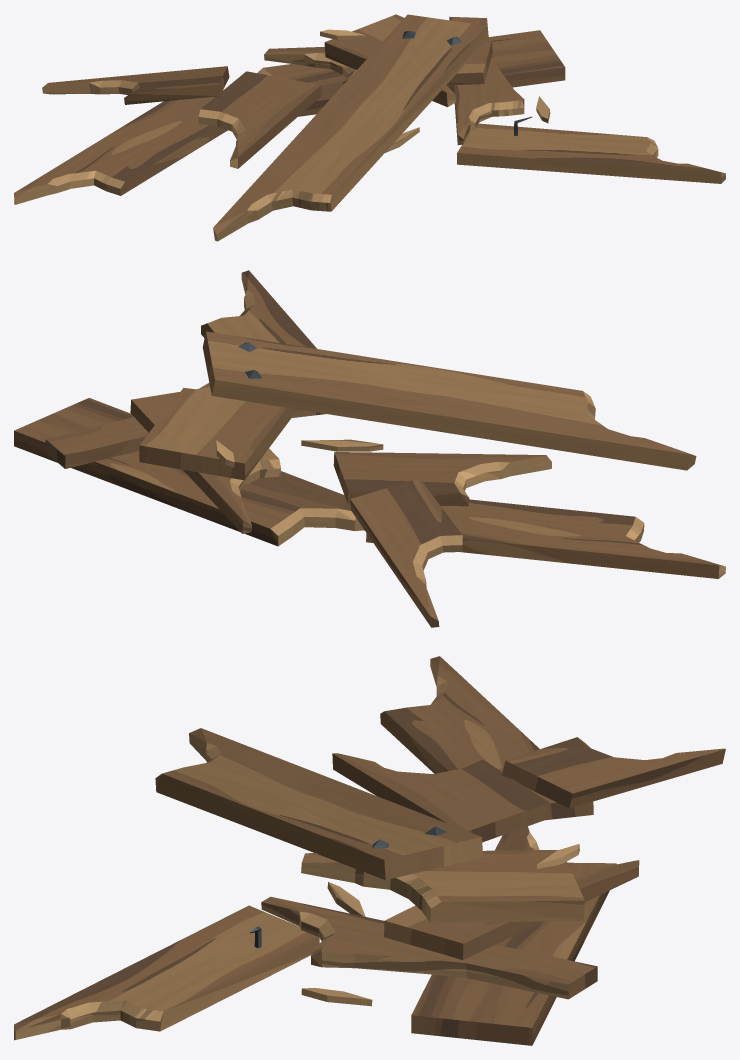
Rendered from SM_BrokenWoodDebris.fbx.
3 views of the same model, one above another, from view 1: azimuth 30°, elevation 25°; view 2: azimuth 150°, elevation 25°; view 3: azimuth 270°, elevation 25° (orthographic). The views are drawn at different scales.
Parts seen in each view (by area): view 1: SM_BrokenWoodDebris; view 2: SM_BrokenWoodDebris; view 3: SM_BrokenWoodDebris.
Part boxes in pixels (x1,y1,x2,y2): SM_BrokenWoodDebris: (14, 14, 725, 241); SM_BrokenWoodDebris: (14, 270, 725, 627); SM_BrokenWoodDebris: (14, 656, 725, 1045).
Bounding box in the file's own units: 1.52 × 0.2155 × 1.22.
